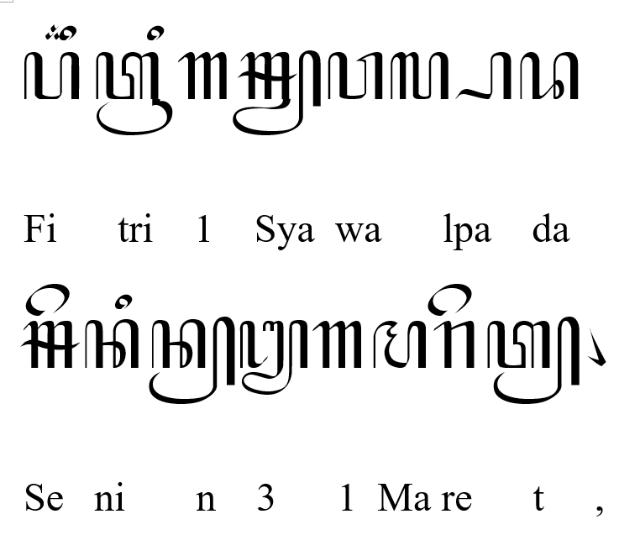-n: (147, 315, 236, 405)
-t: (486, 316, 580, 406)
S: (20, 320, 82, 368)
Sy: (232, 49, 322, 135)
_p: (519, 50, 579, 100), (456, 49, 512, 100)
alt: (45, 24, 63, 40)
e: (24, 283, 70, 317), (428, 283, 472, 317)
g: (312, 321, 363, 369), (178, 52, 228, 100)
i: (59, 25, 77, 41), (114, 294, 132, 310), (148, 25, 164, 41)
kom: (586, 326, 606, 366)
l: (390, 50, 450, 100)
m: (372, 320, 428, 370)
n: (84, 318, 140, 368)
ngya: (240, 319, 308, 395)
p: (24, 51, 80, 101)
r: (434, 321, 474, 369)
tr: (95, 52, 173, 136)
w: (327, 52, 383, 100)
